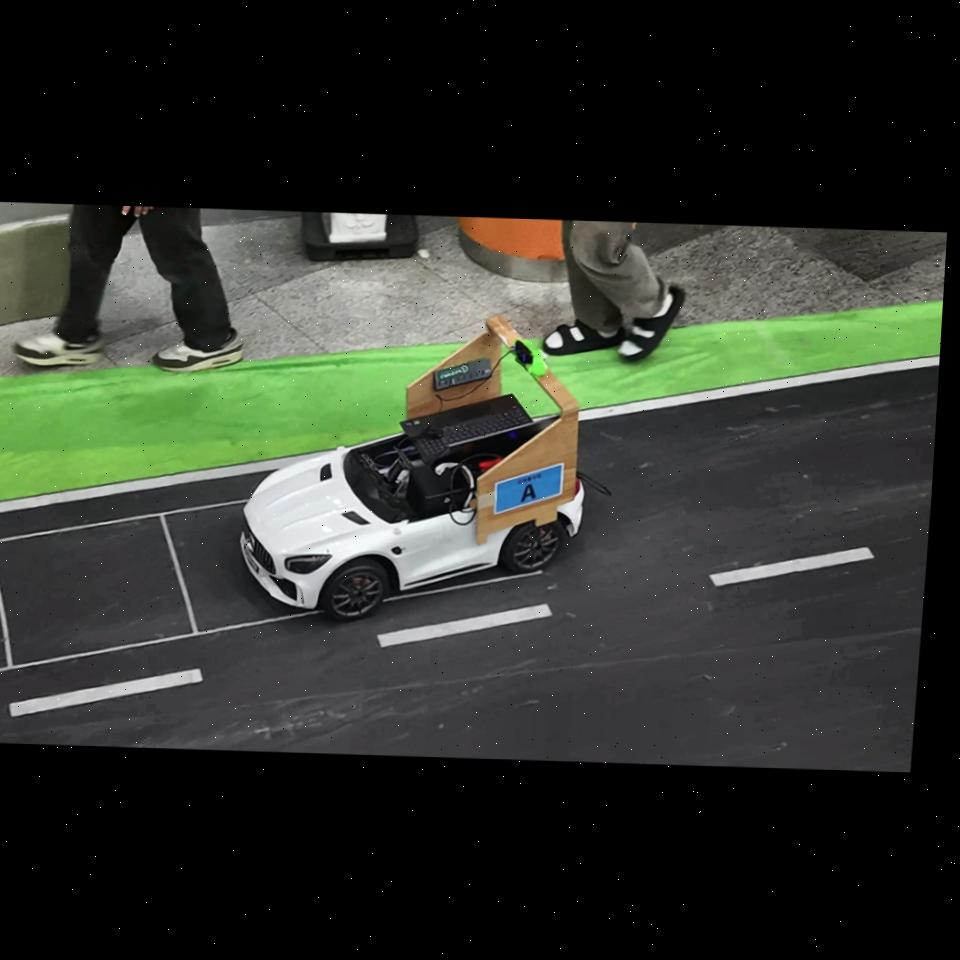broken_line: (9, 668, 203, 717), (377, 604, 552, 648), (710, 547, 875, 586)
